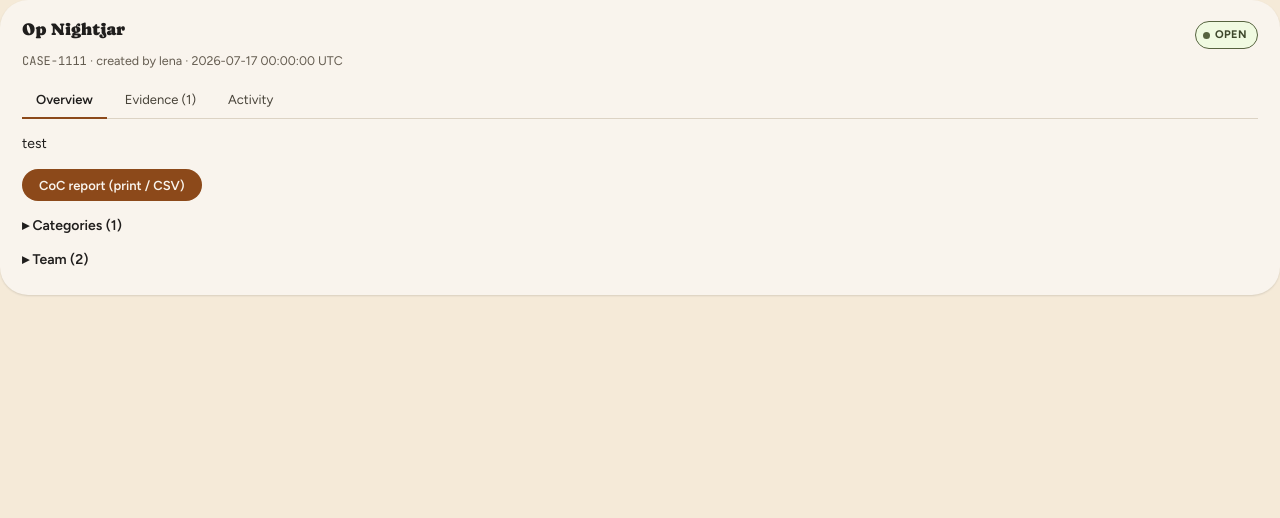
Test case: CaseDetailPage (M23 tabs; M25 overview sections) › M25: Team lives on Overview — the lead expands it and gets management controls
Expected: the heading "Op Nightjar" is shown, [22,18,125,40]
Expected: the tab "Evidence (1)" is shown, [111,80,210,119]
Click the button "▸ Team (2)": (55, 260) [22,251,88,268]
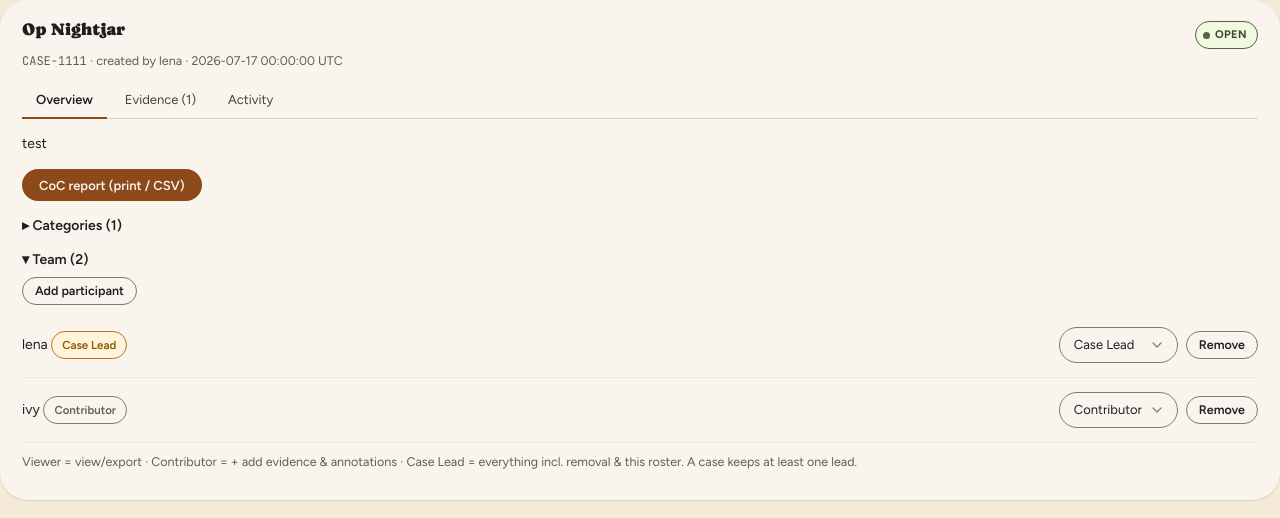
Expected: the button "Add participant" is shown, [22,277,137,305]
Expected: the dropdown named "role of ivy" is shown, [1059,392,1178,428]
Expected: the number of buttons "Remove" is 2, [1186,331,1258,359]; [1186,396,1258,424]
